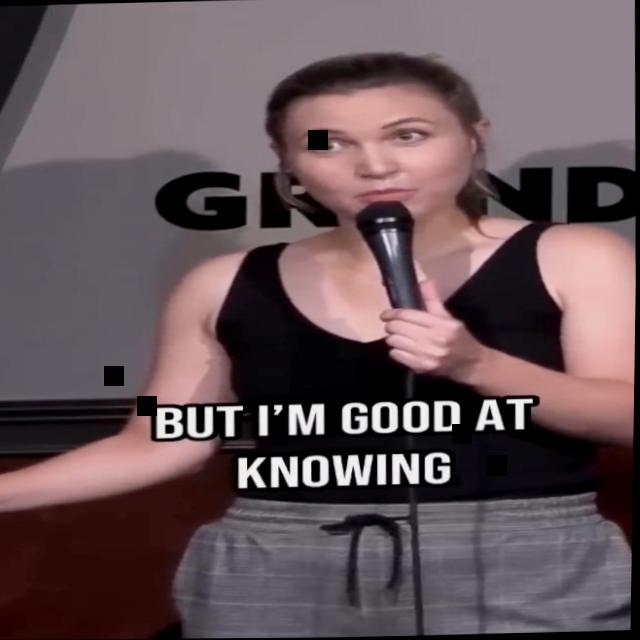NO-Mask: (263, 87, 488, 230)
